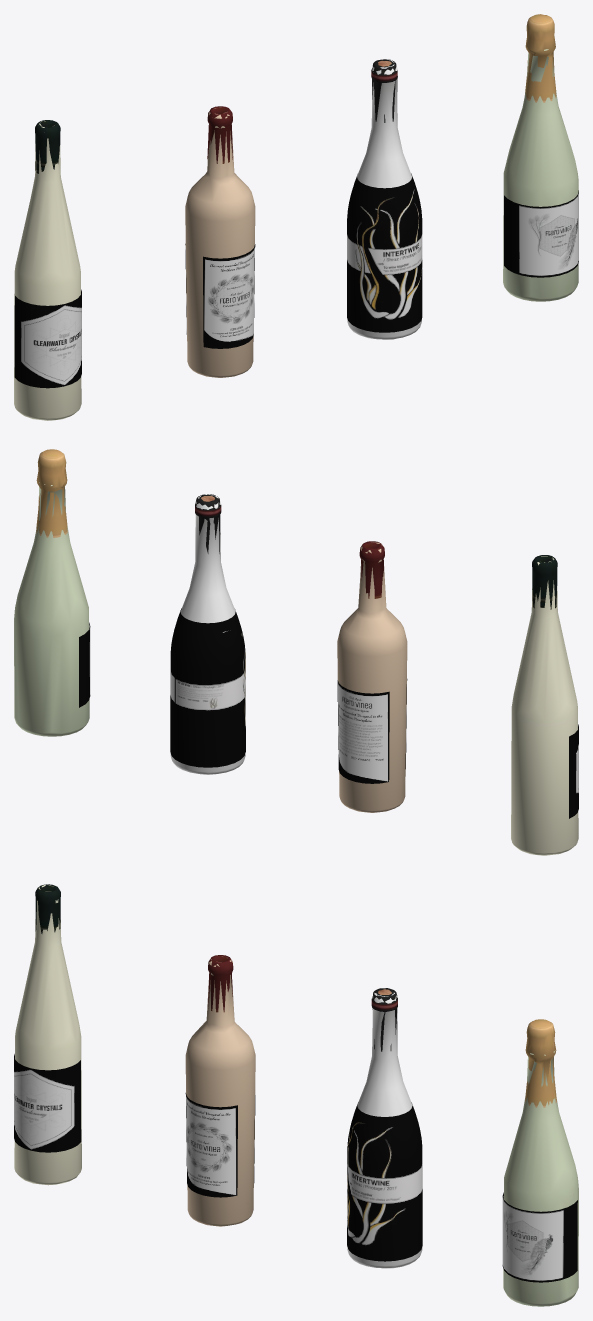
The model's file is botellas.glb.
3 views of the same model, one above another, from view 1: azimuth 30°, elevation 25°; view 2: azimuth 150°, elevation 25°; view 3: azimuth 330°, elevation 25° (orthographic).
Visible parts, largest first — view 1: wine_bottles_01_bordeaux, wine_bottles_01_burgundy, wine_bottles_01_alsace, wine_bottles_01_champagne; view 2: wine_bottles_01_bordeaux, wine_bottles_01_burgundy, wine_bottles_01_champagne, wine_bottles_01_alsace; view 3: wine_bottles_01_bordeaux, wine_bottles_01_burgundy, wine_bottles_01_alsace, wine_bottles_01_champagne.
Boxes of the visible parts, x1,y1,x2,y2 form: wine_bottles_01_bordeaux: (14, 14, 578, 420); wine_bottles_01_burgundy: (347, 173, 422, 332); wine_bottles_01_alsace: (14, 289, 81, 388); wine_bottles_01_champagne: (504, 190, 578, 277); wine_bottles_01_bordeaux: (14, 449, 578, 855); wine_bottles_01_burgundy: (170, 608, 245, 767); wine_bottles_01_champagne: (79, 622, 90, 707); wine_bottles_01_alsace: (569, 724, 578, 818); wine_bottles_01_bordeaux: (14, 884, 578, 1306); wine_bottles_01_burgundy: (347, 1102, 422, 1261); wine_bottles_01_alsace: (14, 1054, 81, 1152); wine_bottles_01_champagne: (502, 1192, 577, 1282).
Size of the model in its own units: 0.6763 by 0.3314 by 0.0805.
9 materials, 6 textured.
